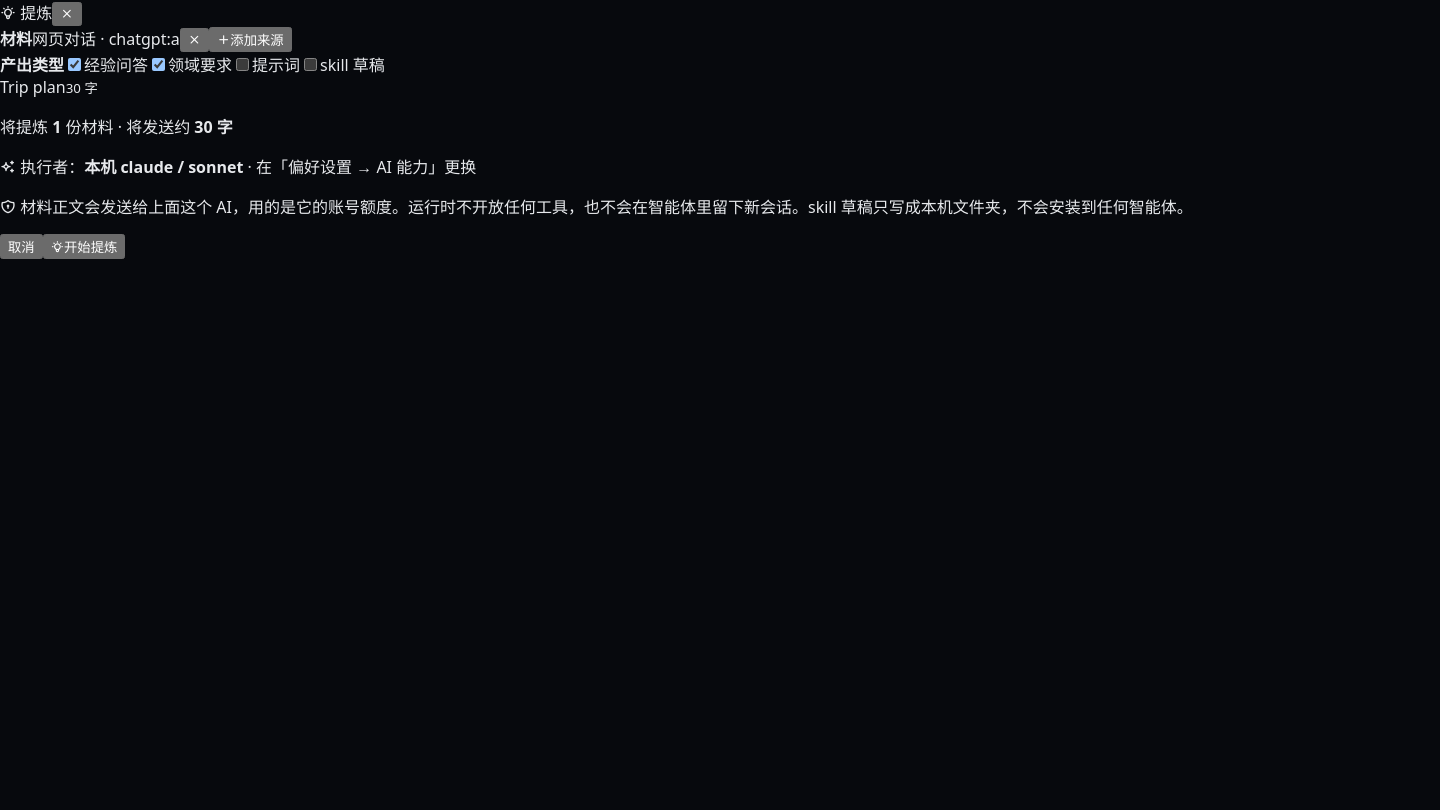
Test: distill dialog › does not show a red alert for a user-requested cancel, even though the backend records an error code for it
The image size is (1440, 810).
Click the button "开始提炼" at (84, 246), box [43,234,125,259]
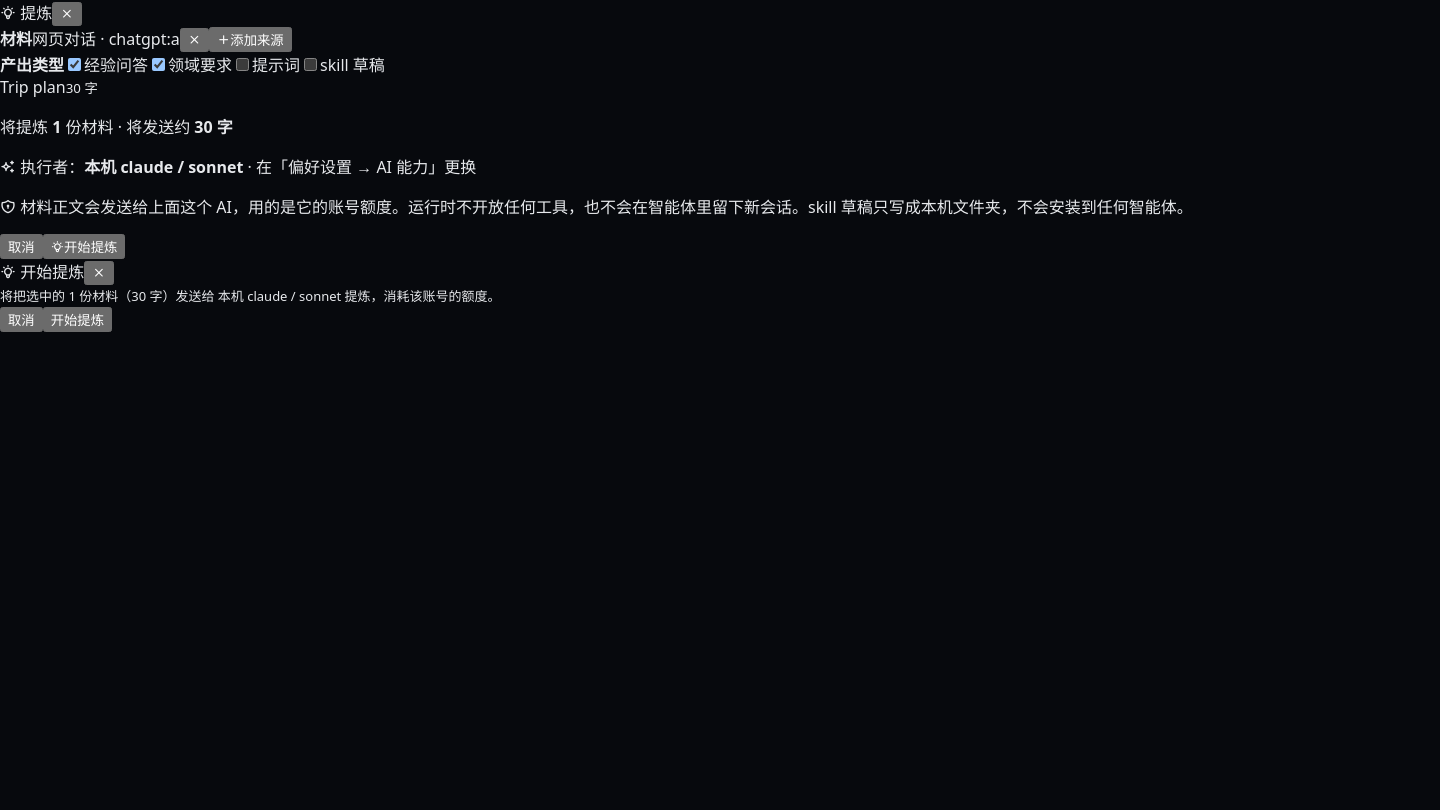
Check: the 2nd button "开始提炼" is shown
Click the 2nd button "开始提炼" at (77, 320), box [43,307,112,332]
Wait 1110 ms
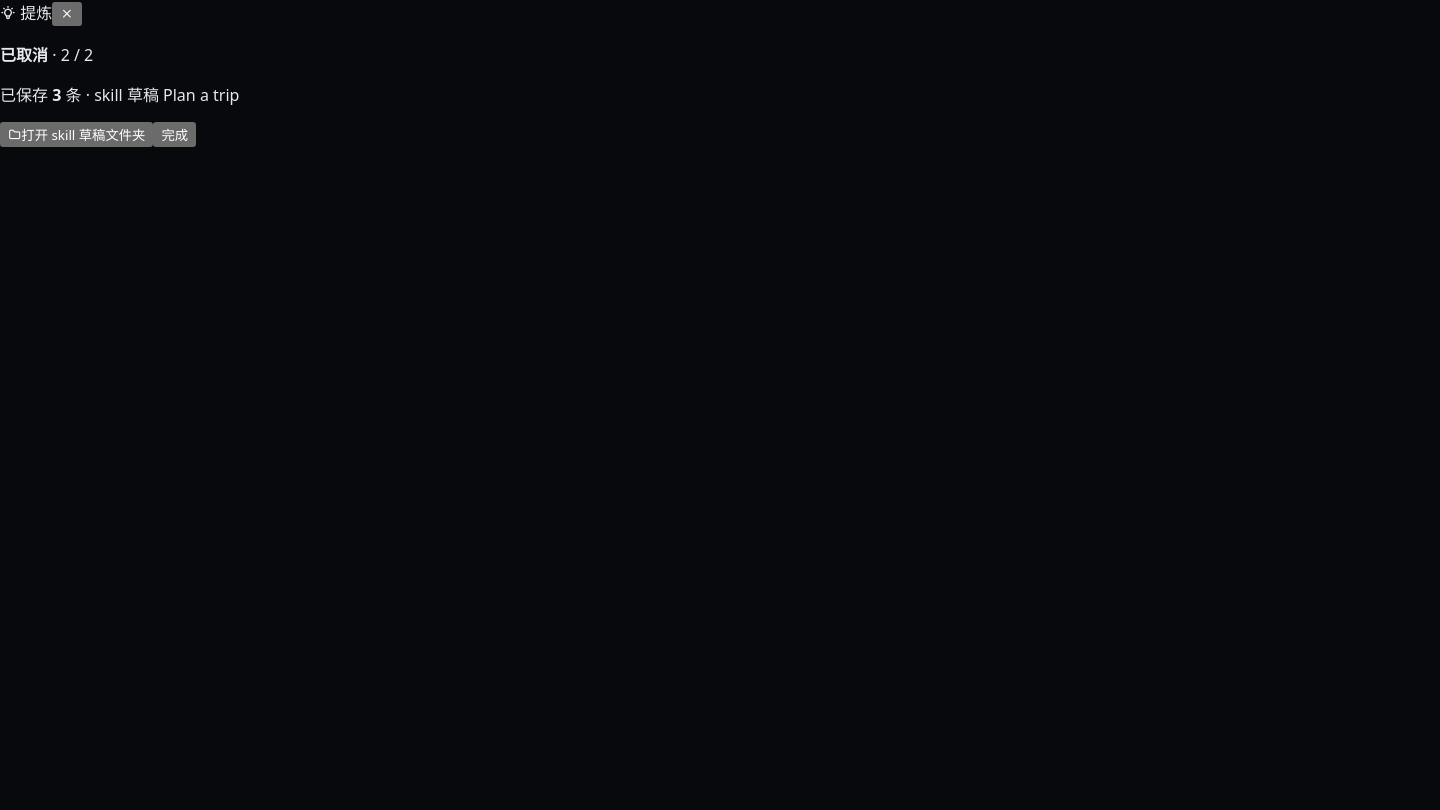
Check: the text "已取消" is shown, box [0,44,48,66]
